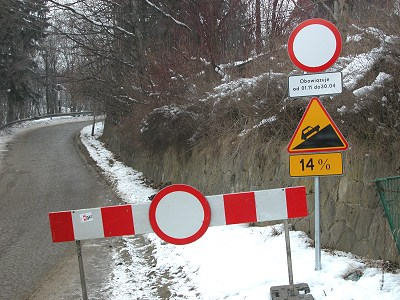no_entry_sign: (148, 184, 211, 244), (286, 18, 343, 71)
